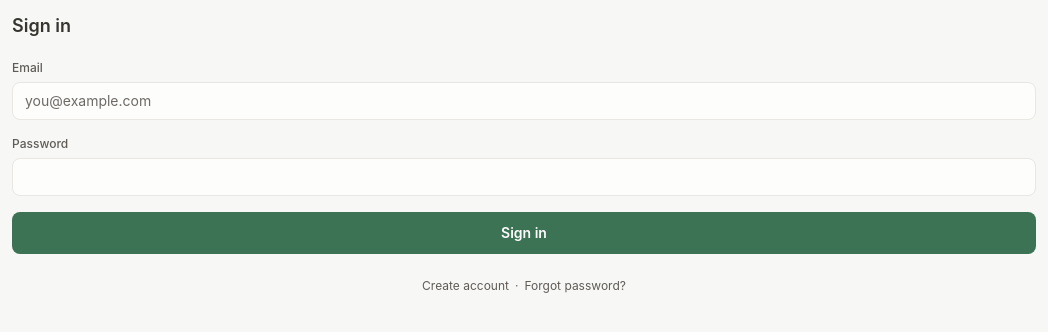
Test: LoginPage error mapping › maps a 401 to a password-field error
Step 1. Type "alex@example.com" into the field labelled "Email" → (524, 101), box [12,82,1036,120]
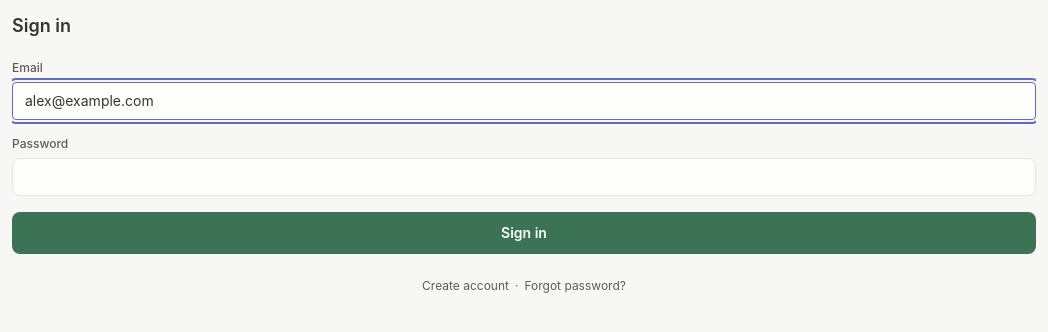
Step 2. Type "hunter2boogaloo" into the password field labelled "Password" → (524, 177), box [12,158,1036,196]
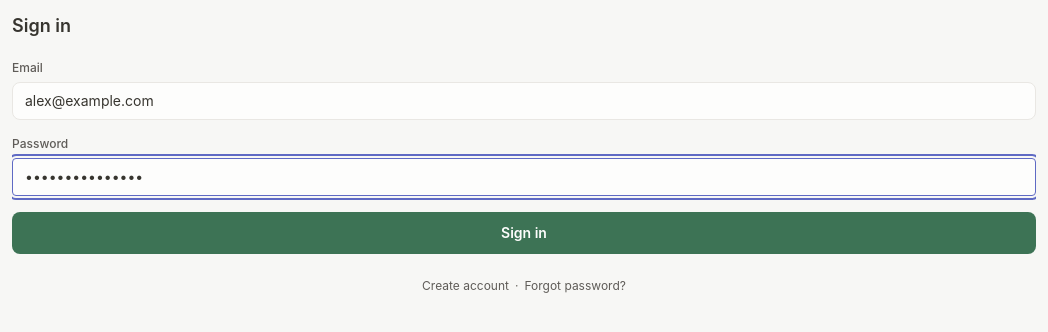
Step 3. Click the button "Sign in" → (524, 233), box [12,212,1036,254]
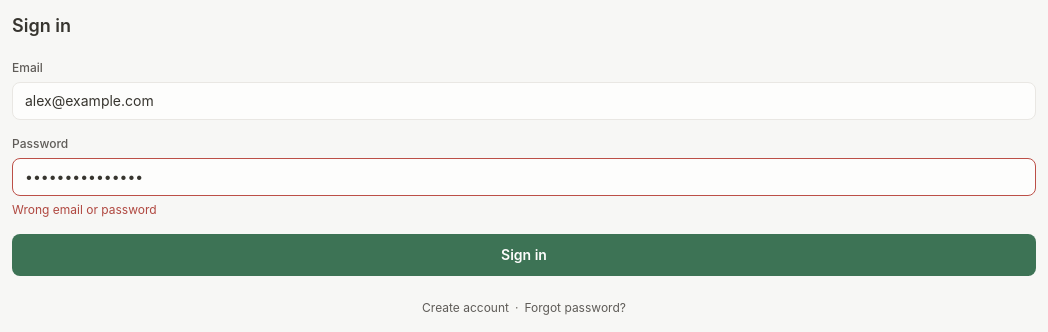
expect the message reads "Wrong email or password": met, box [12,202,157,217]
